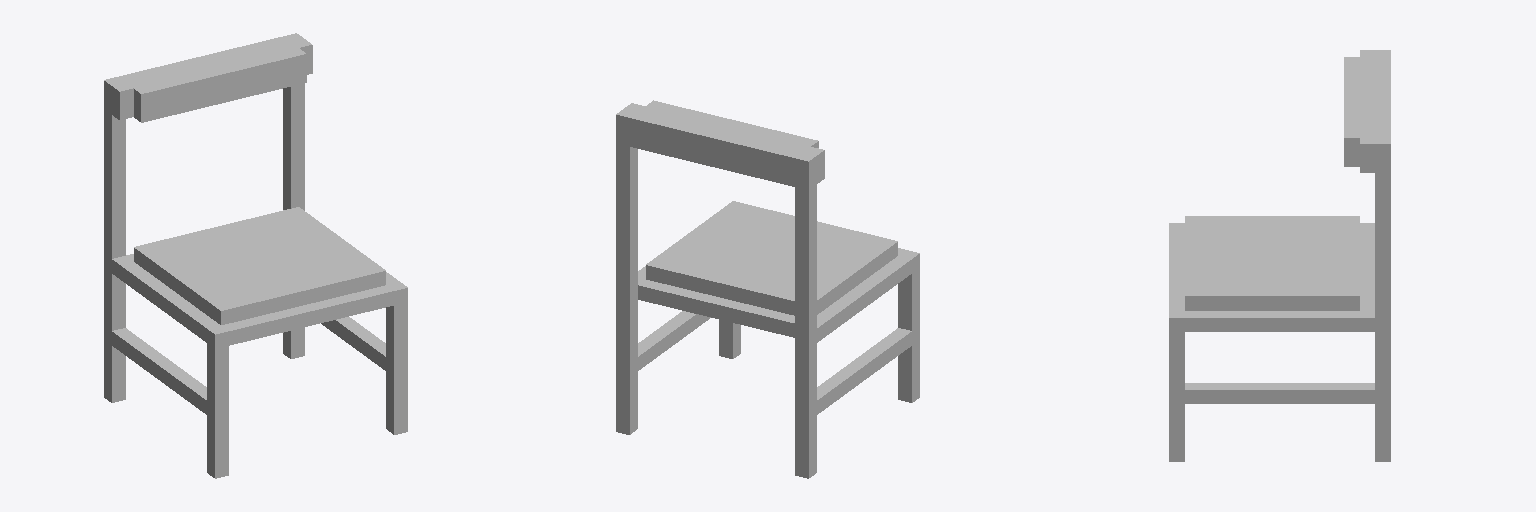
Rendered from Chair.obj.
3 views of the same model, side by side, from view 1: azimuth 30°, elevation 25°; view 2: azimuth 150°, elevation 25°; view 3: azimuth 270°, elevation 25° (orthographic).
Visible parts, largest first — view 1: object 1; view 2: object 1; view 3: object 1.
Boxes of the visible parts, <box> form: object 1: <box>104,33,407,478</box>; object 1: <box>616,100,919,478</box>; object 1: <box>1169,50,1390,461</box>.
Size of the model in its own units: 1.4 by 2.2 by 1.4.